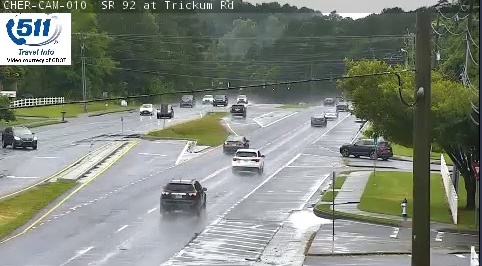car: (160, 179, 206, 210), (232, 148, 263, 170), (224, 135, 249, 153), (311, 113, 327, 127), (231, 105, 244, 116)
